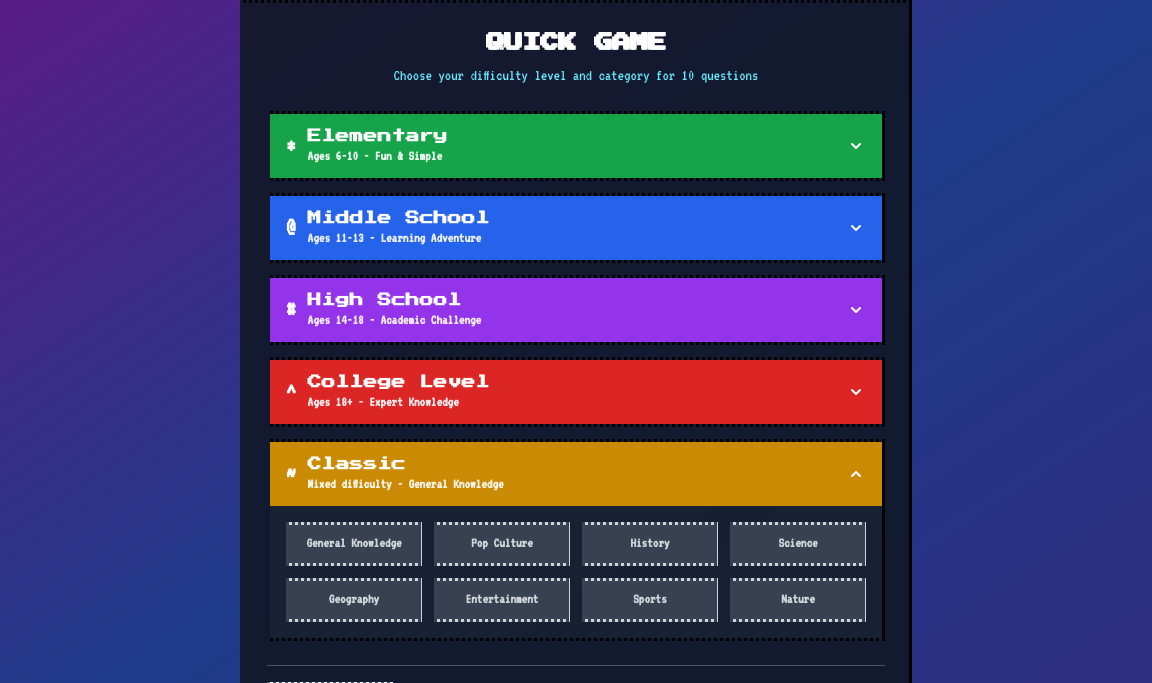
Test: QuickGameSelector › difficulty levels › should display Elementary categories when expanded
Click the button "* Elementary Ages 6-10 - Fun & Simple" at (378, 136), box [270,114,882,178]
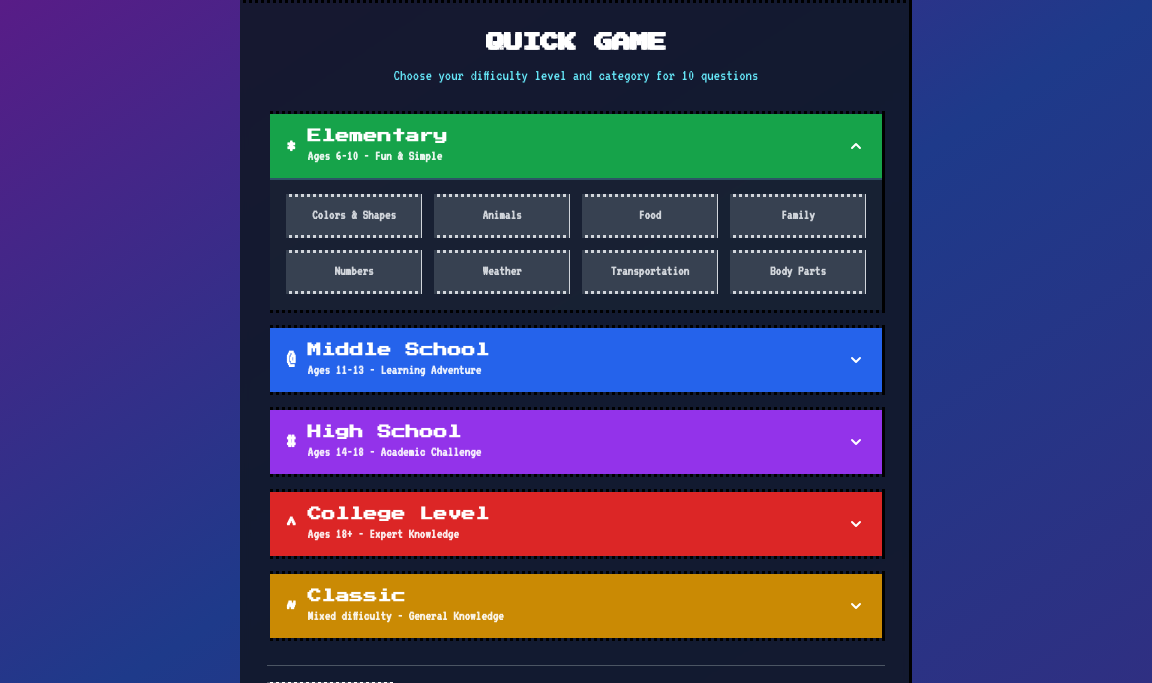
Result: the text "Colors & Shapes" is shown at [312,208,396,222]
Result: the text "Animals" is shown at [482,208,522,222]
Result: the text "Food" is shown at [639,208,661,222]
